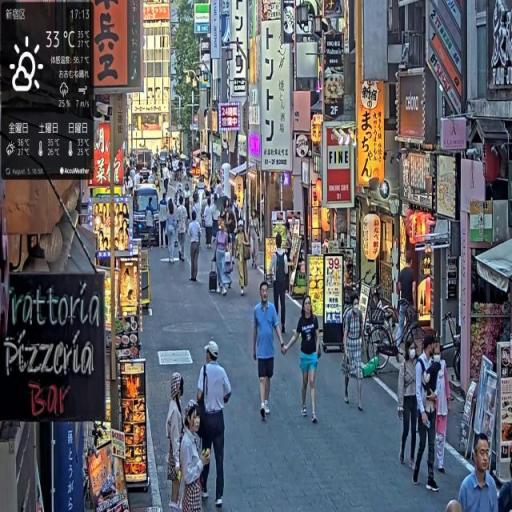person: (195, 340, 233, 511), (281, 295, 323, 426), (253, 284, 287, 422), (414, 335, 442, 494), (178, 400, 212, 511), (456, 433, 501, 512), (344, 291, 369, 413), (398, 340, 421, 471), (166, 372, 187, 511), (397, 251, 419, 360), (269, 232, 291, 339), (213, 216, 232, 297), (236, 221, 253, 297), (188, 210, 203, 284), (176, 196, 190, 265), (166, 203, 179, 268), (250, 211, 262, 272), (159, 196, 171, 252), (205, 199, 216, 251)
